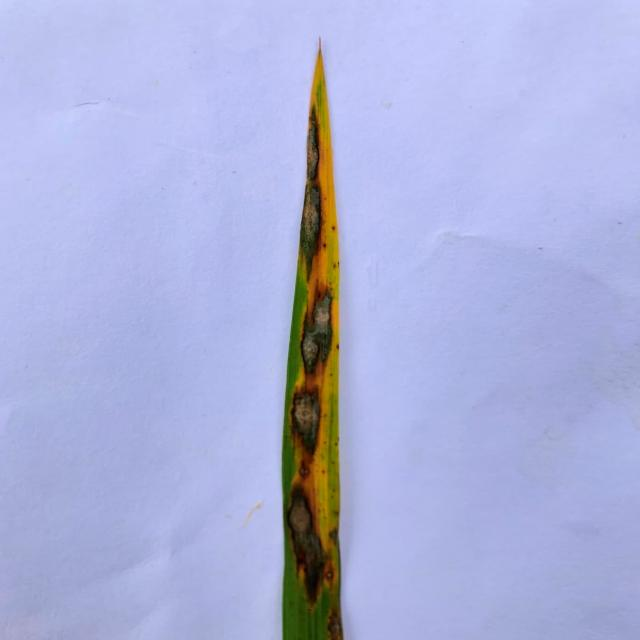leaf blast: (284, 484, 332, 606), (296, 285, 334, 379), (289, 382, 324, 460), (298, 181, 325, 281), (302, 104, 328, 181), (325, 607, 343, 640), (324, 523, 338, 551), (296, 460, 313, 482)
